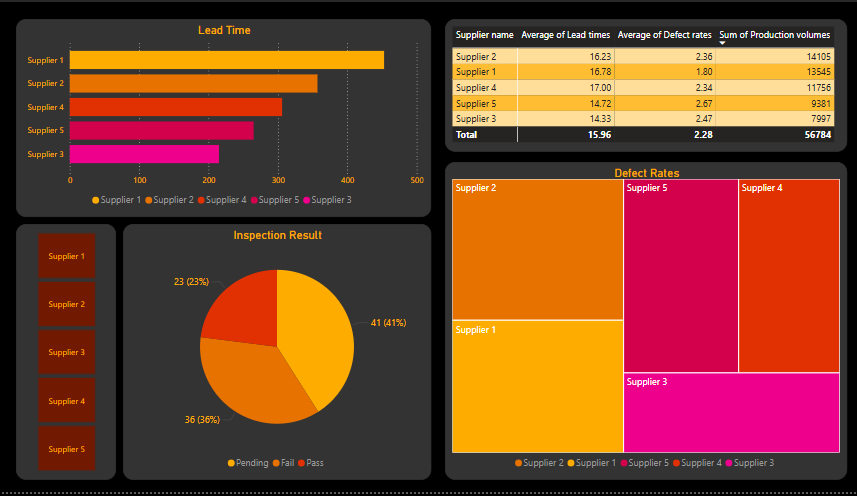

Layout of this report page (visuals, bound fields, positions):
{"tool":"powerbi","page":{"name":"Supplier Performance","canvas":[1280,720],"ordinal":3},"visuals":[{"type":"barChart","title":"Lead Time","fields":{"Category":["Cleaned_Data.Supplier name"],"Series":["Cleaned_Data.Supplier name"],"Y":["Sum(Cleaned_Data.Lead times)"]},"box":[30.9,25,609.8,290.9],"z":0},{"type":"treemap","title":"Defect Rates","fields":{"Group":["Cleaned_Data.Supplier name"],"Values":["Sum(Cleaned_Data.Defect rates)"]},"box":[661.2,235.1,590.7,467.3],"z":1000},{"type":"pieChart","title":"Inspection Result","fields":{"Category":["Cleaned_Data.Inspection results"],"Y":["CountNonNull(Cleaned_Data.Inspection results)"]},"box":[188.1,326.2,452.6,376.2],"z":2000},{"type":"pivotTable","fields":{"Rows":["Cleaned_Data.Supplier name"],"Values":["Avg(Cleaned_Data.Lead times)","Avg(Cleaned_Data.Defect rates)","Sum(Cleaned_Data.Production volumes)"]},"box":[661.2,25,590.7,195.4],"z":3000},{"type":"slicer","fields":{"Values":["Cleaned_Data.Supplier name"]},"box":[30.9,326.2,146.9,376.2],"z":4000}]}

Visuals, with their boxes in screenshot pixels (x1, y1, x2, y2), scaled from the page's 1280x720 canvas onto the 857x496 screenshot:
"Lead Time" barChart: l=21, t=17, r=429, b=218
"Defect Rates" treemap: l=443, t=162, r=838, b=484
"Inspection Result" pieChart: l=126, t=225, r=429, b=484
pivotTable - Cleaned_Data.Supplier name x Avg(Cleaned_Data.Lead times): l=443, t=17, r=838, b=152
slicer - Cleaned_Data.Supplier name: l=21, t=225, r=119, b=484
